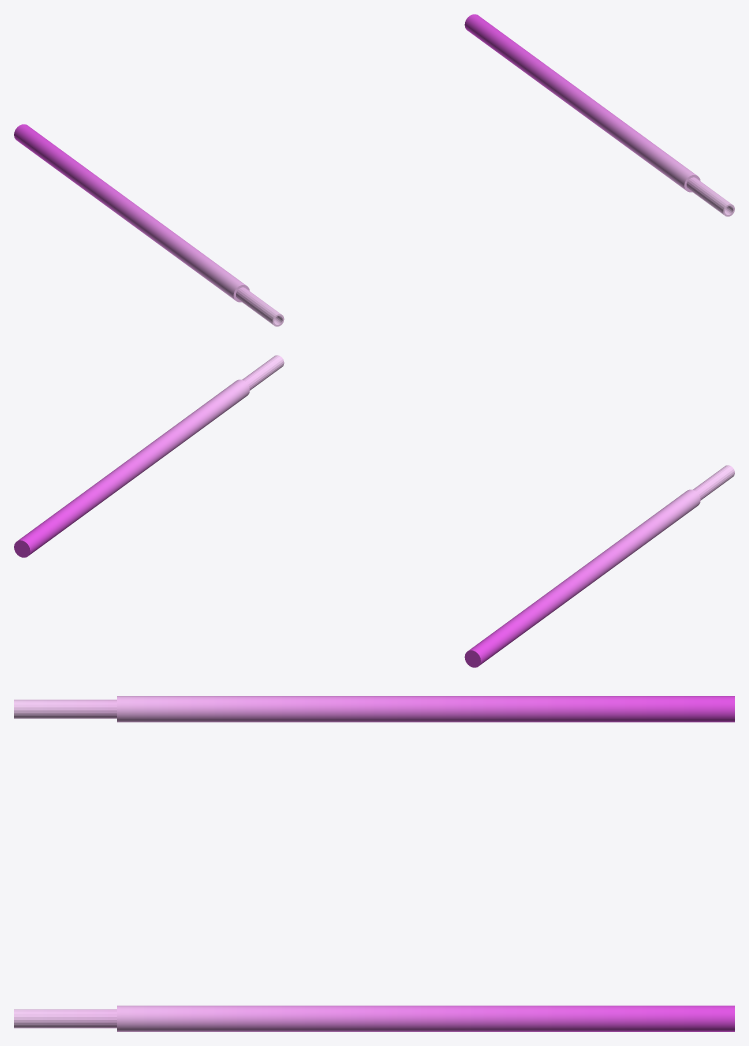
File: Machine Guns Coloured Solo.fbx
The picture shows the model from 3 angles, top to bottom: view 1: azimuth 30°, elevation 25°; view 2: azimuth 150°, elevation 25°; view 3: azimuth 270°, elevation 25°; orthographic projection. The views are drawn at different scales.
Parts seen in each view (by area): view 1: Machine_Guns; view 2: Machine_Guns; view 3: Machine_Guns.
Part boxes in pixels (x1,y1,x2,y2): Machine_Guns: (14, 14, 734, 326); Machine_Guns: (14, 355, 734, 667); Machine_Guns: (14, 696, 734, 1031).
Size of the model in its own units: 207 by 7.24 by 197.
1 material, 1 textured.
